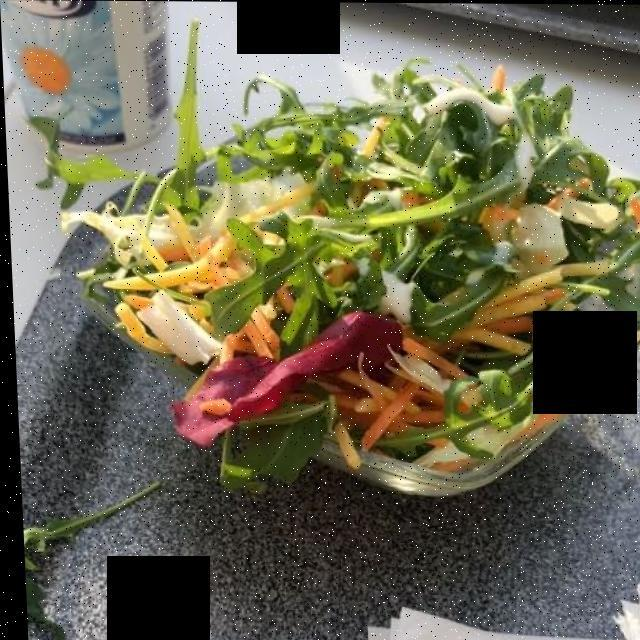salad: (81, 71, 635, 474)
